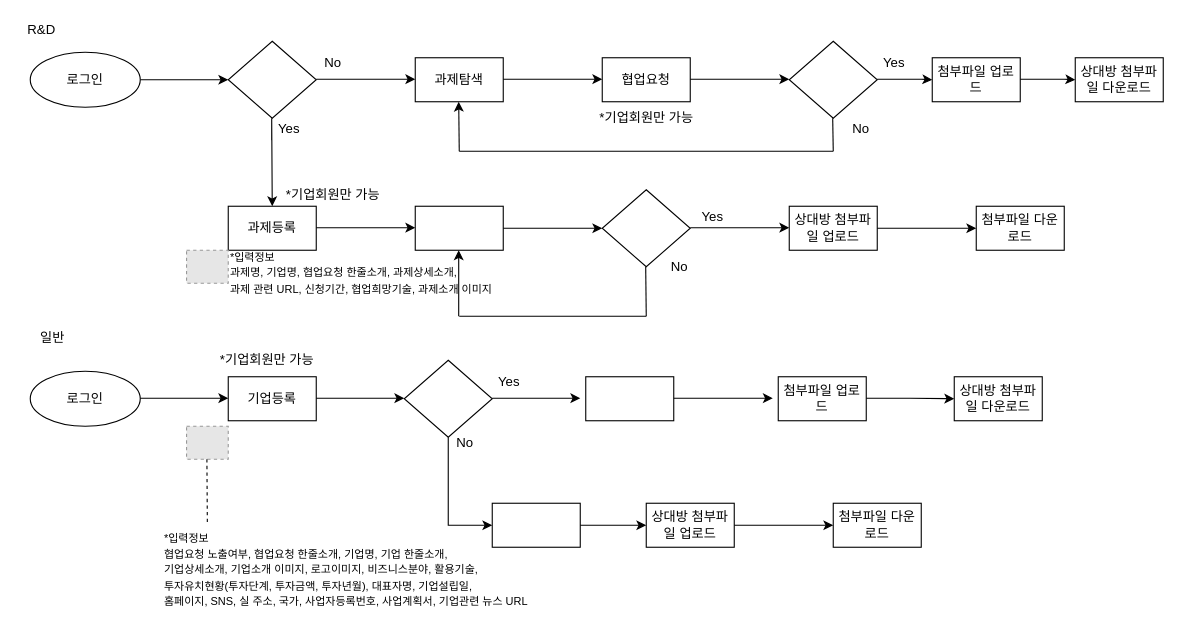
Some shapes in this 1183 by 631 pixel diagram are drawn without their labels. Grey dashed boxes stand in for pictures. Each missing label, with the box of its shape:
과제주관여부: (227, 40, 316, 118)
상대방 요청수락여부: (788, 40, 877, 118)
상대방 협업승인: (585, 376, 674, 421)
협업수락: (491, 502, 580, 547)
협업요청 수락여부: (601, 189, 690, 267)
협업요청 주체여부: (403, 359, 492, 437)
협업요청수신: (414, 205, 503, 250)
